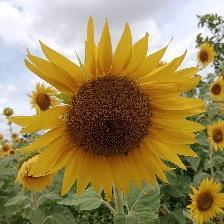sunflower: (9, 15, 210, 204), (189, 171, 224, 224), (28, 77, 63, 116), (195, 40, 216, 71), (206, 118, 224, 151), (209, 78, 224, 104), (3, 106, 16, 119), (1, 144, 13, 155), (12, 131, 20, 141), (10, 150, 17, 158), (1, 134, 4, 143)
